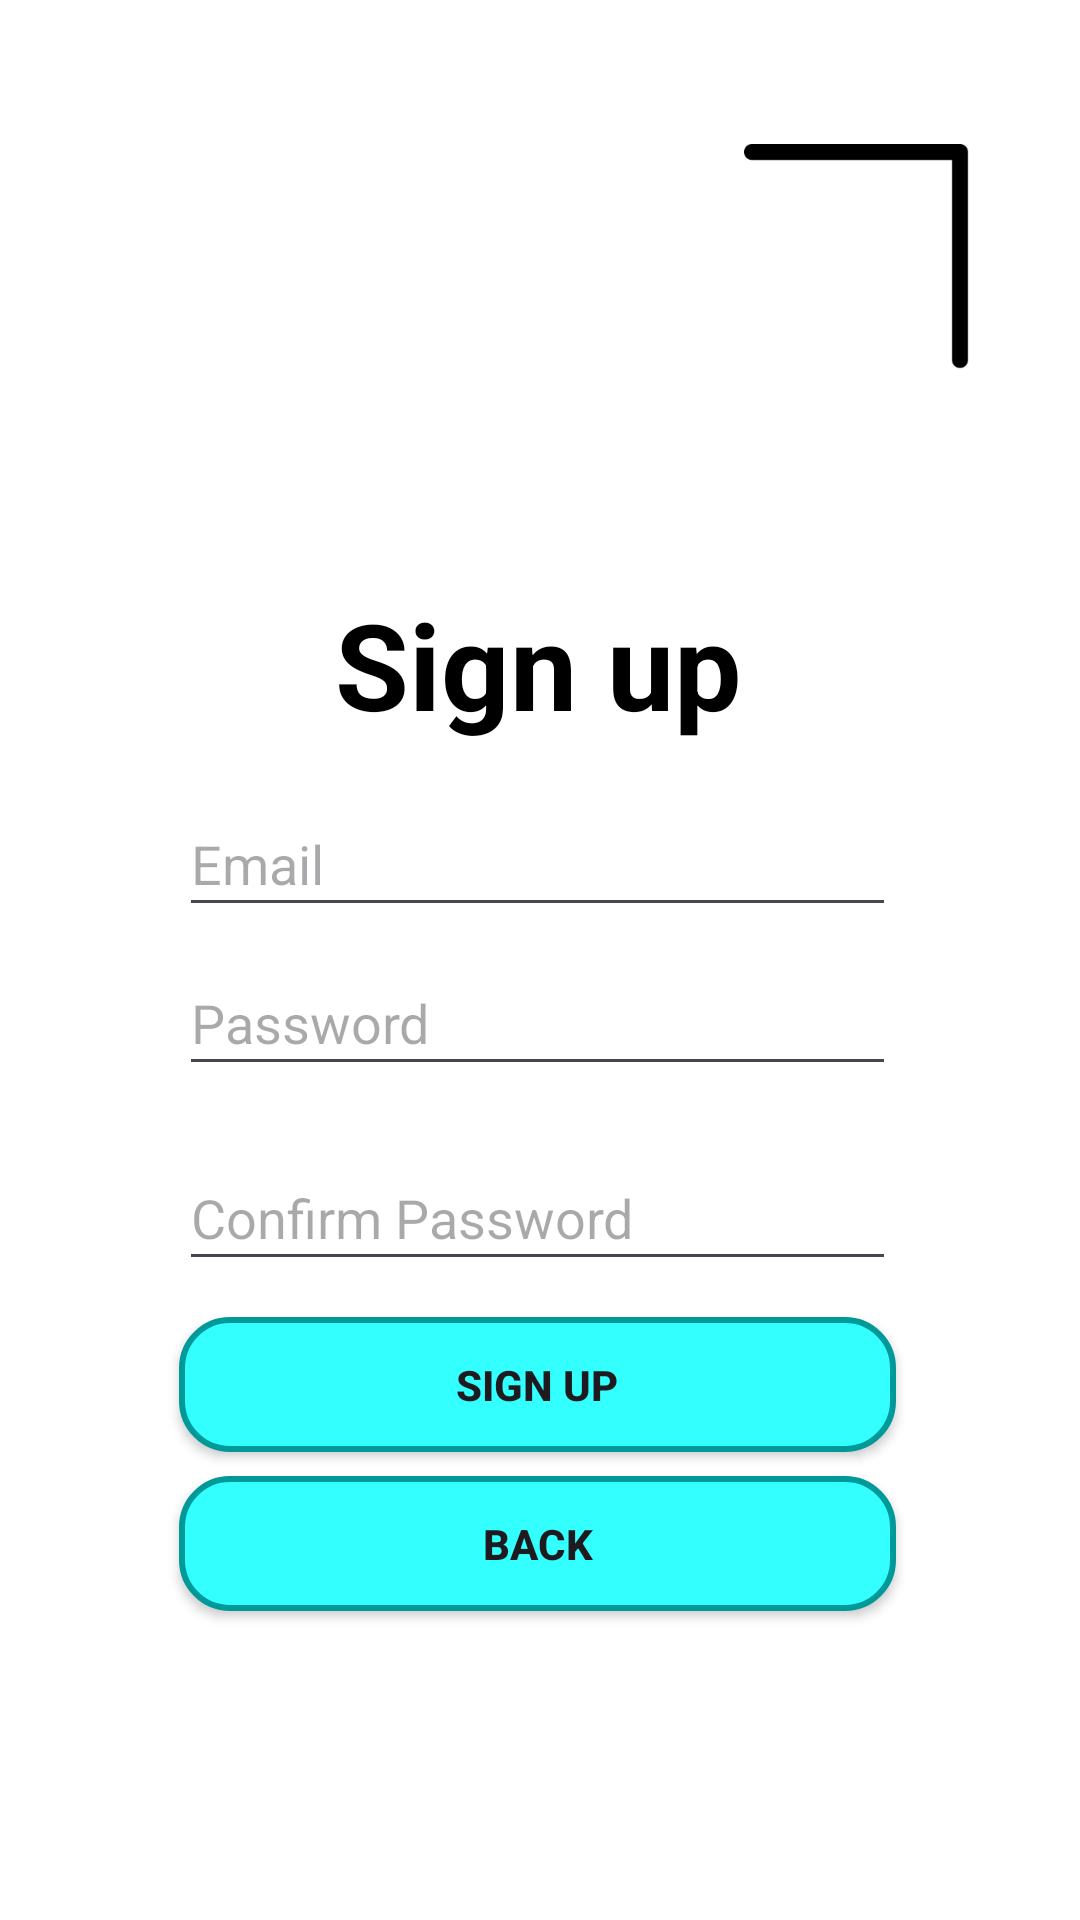

Icons on this 1080*1920 Android screen, each with its box as region(x1, y1, x2, y2):
top tight: region(744, 144, 969, 369)
